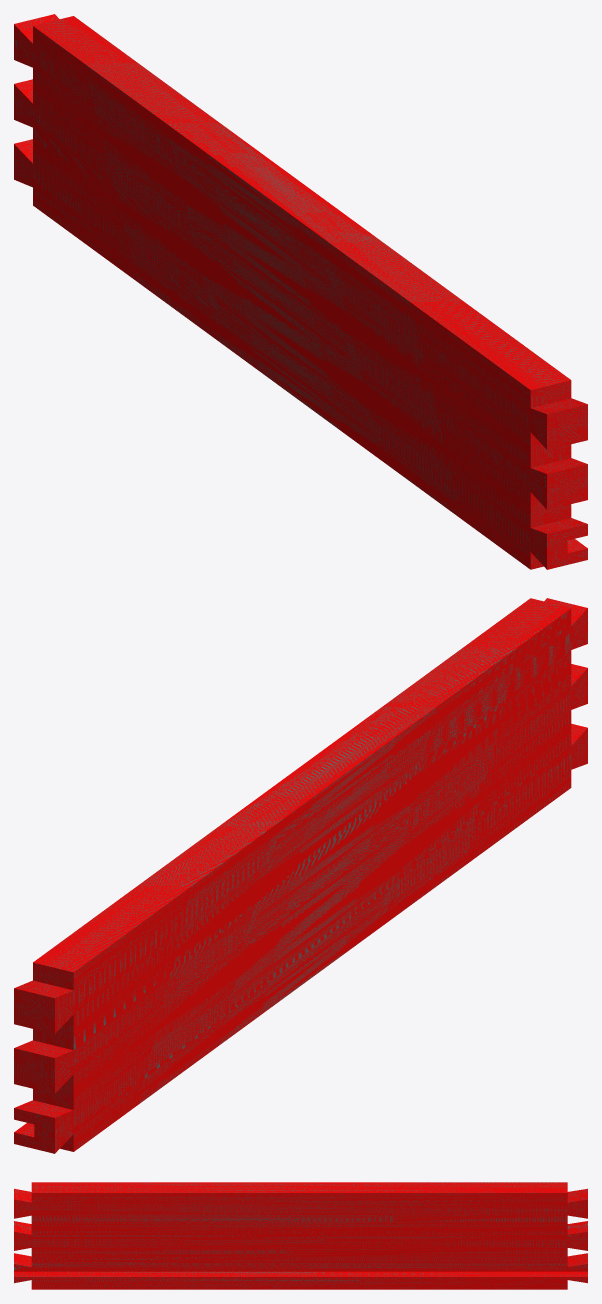
File: original-57.obj
3 renders of one model, top to bottom at view 1: azimuth 30°, elevation 25°; view 2: azimuth 150°, elevation 25°; view 3: azimuth 270°, elevation 25°, orthographic. The views are drawn at different scales.
Visible parts, largest first — view 1: Cotecomplet4/Cotecomplet/mesh8/mesh8-geometry#mesh8-geometry; view 2: Cotecomplet4/Cotecomplet/mesh8/mesh8-geometry#mesh8-geometry; view 3: Cotecomplet4/Cotecomplet/mesh8/mesh8-geometry#mesh8-geometry.
Part boxes in pixels (bbox=[...]): Cotecomplet4/Cotecomplet/mesh8/mesh8-geometry#mesh8-geometry: bbox=[14, 14, 587, 569]; Cotecomplet4/Cotecomplet/mesh8/mesh8-geometry#mesh8-geometry: bbox=[14, 598, 587, 1153]; Cotecomplet4/Cotecomplet/mesh8/mesh8-geometry#mesh8-geometry: bbox=[14, 1182, 587, 1289].
Bounding box in the file's own units: 0.011 × 0.046 × 0.2476.
